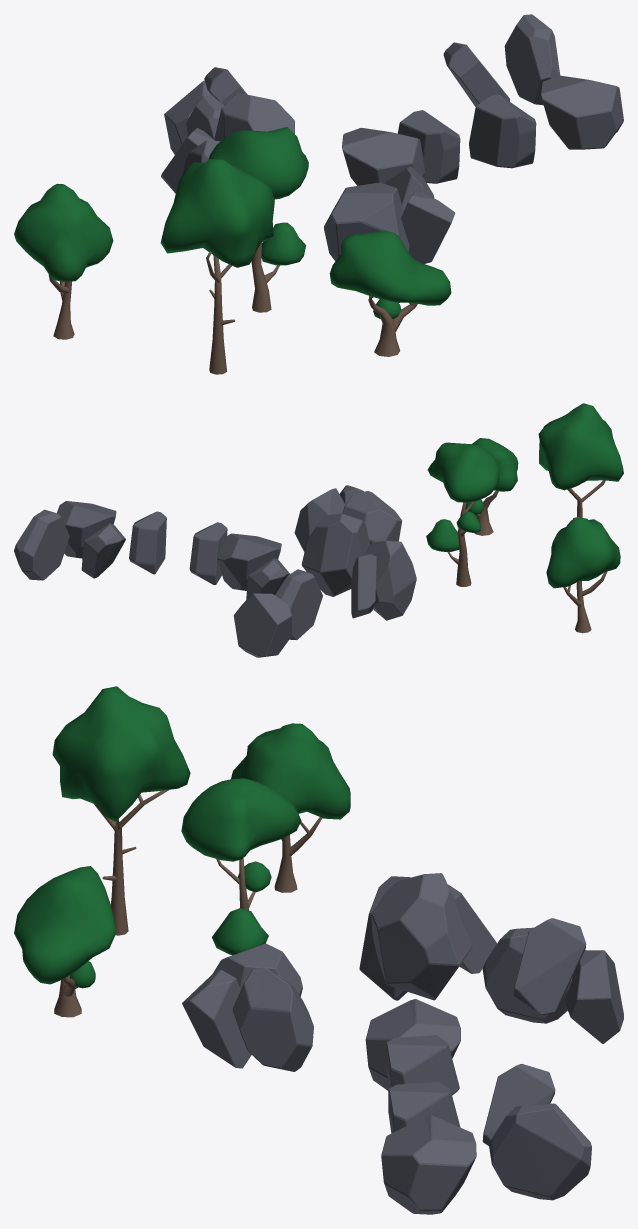
File: treesRocks.fbx
3 renders of one model, top to bottom at view 1: azimuth 30°, elevation 25°; view 2: azimuth 150°, elevation 25°; view 3: azimuth 270°, elevation 25°, orthographic. The views are drawn at different scales.
Visible parts, largest first — view 1: tree03Top, rocks01, tree02Top, rocks02, tree04Top, tree01Top, rockSep02, rockSep01, rocks03, rockSep04, rocks04, rockSep03 (+4 smaller); view 2: rocks03, rocks04, tree03Top, tree01Top, rocks02, tree04Top, rocks01, rockSep04, rockSep02, rockSep01, rockSep03, tree02Top (+3 smaller); view 3: rocks03, rocks04, tree03Top, rocks01, tree01Top, tree02Top, rockSep04, rockSep02, rocks02, tree04Top, rockSep03, rockSep01 (+3 smaller).
Part boxes in pixels (x1,y1,x2,y2): tree03Top: (160,159,274,267); rocks01: (324,166,454,263); tree02Top: (329,230,451,319); rocks02: (342,110,460,185); tree04Top: (14,183,113,281); tree01Top: (208,127,308,265); rockSep02: (541,75,623,149); rockSep01: (469,94,536,168); rocks03: (161,93,294,193); rockSep04: (504,14,560,105); rocks04: (164,67,247,154); rockSep03: (443,42,509,106); rocks03: (301,513,416,620); rocks04: (233,558,322,657); tree03Top: (538,403,623,490); tree01Top: (426,442,500,551); rocks02: (189,522,281,590); tree04Top: (546,517,620,588); rocks01: (294,485,401,551); rockSep04: (14,509,69,580); rockSep02: (56,501,116,558); rockSep01: (129,511,166,574); rockSep03: (81,523,125,578); tree02Top: (465,438,518,514); rocks03: (359,873,496,1000); rocks04: (482,918,623,1043); tree03Top: (52,686,190,821); rocks01: (182,943,313,1071); tree01Top: (181,778,301,955); tree02Top: (14,866,116,988); rockSep04: (489,1103,591,1200); rockSep02: (381,1115,476,1214); rocks02: (365,999,460,1095); tree04Top: (231,723,350,819); rockSep03: (482,1064,555,1145); rockSep01: (388,1081,460,1133).
Size of the model in its own units: 7091 by 2246 by 5099.
